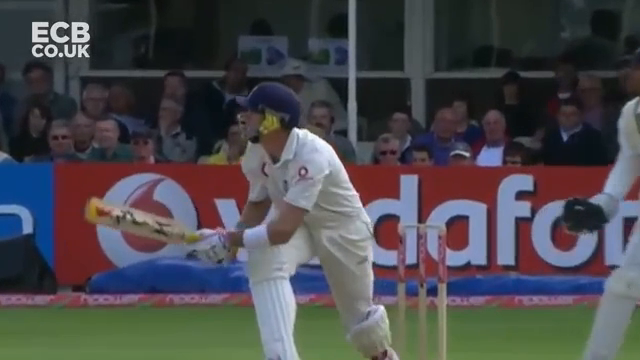batsman: (189, 79, 405, 356)
